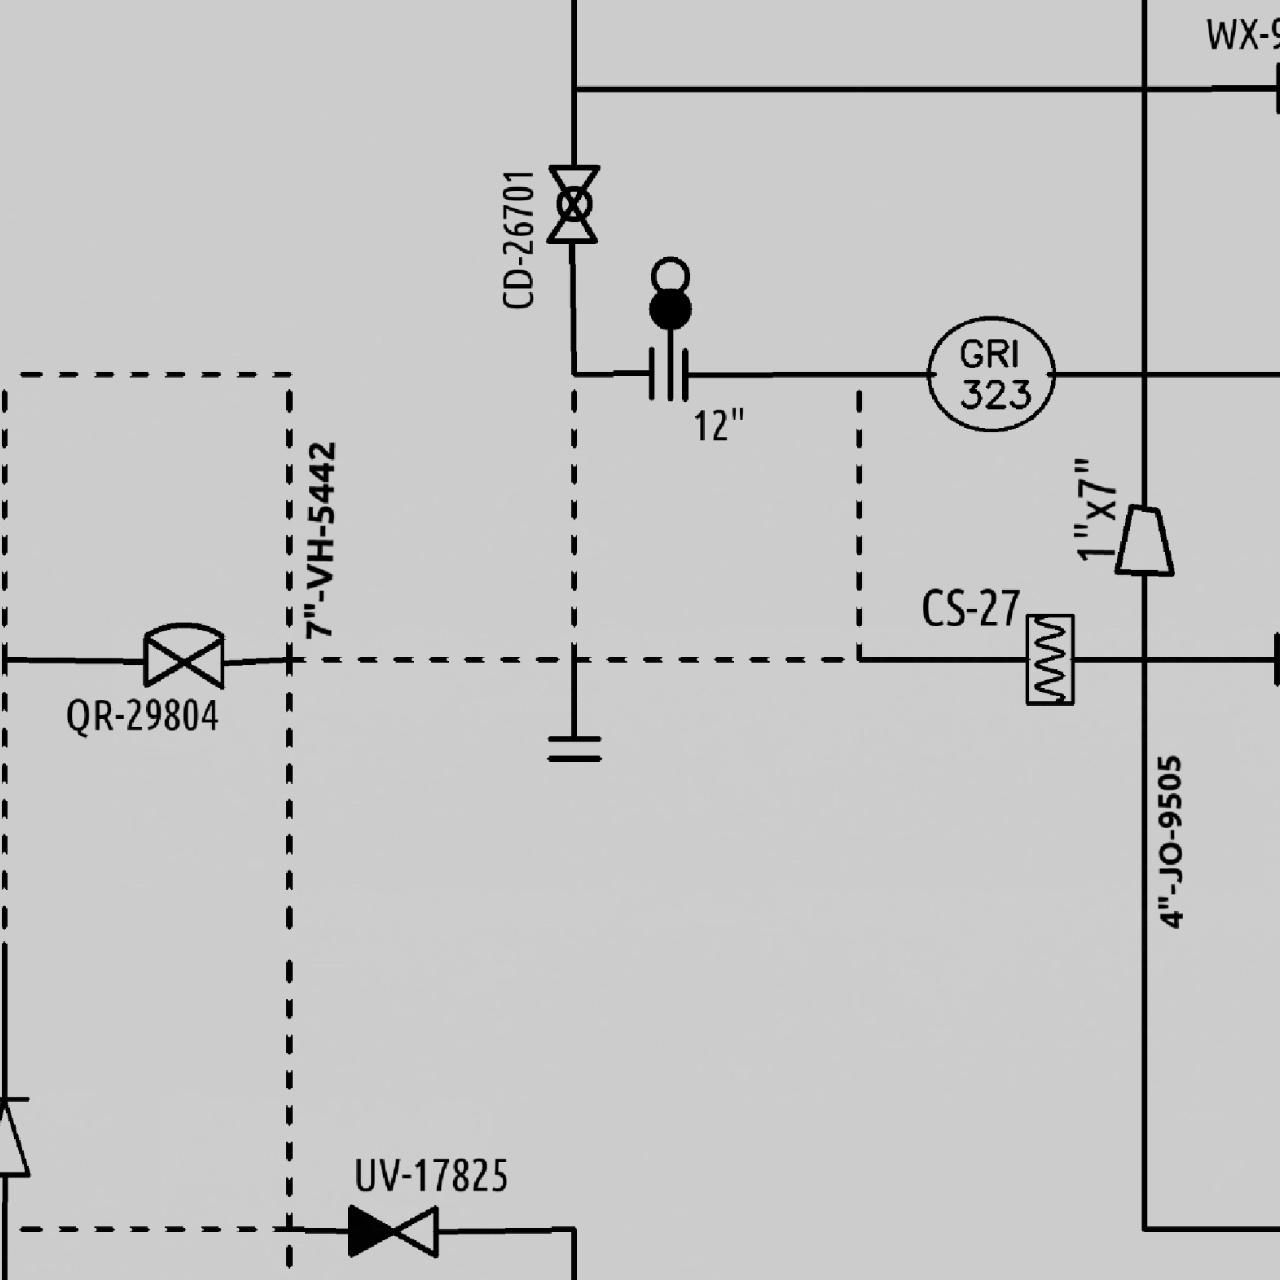Half closed valve: (343, 1200, 441, 1261)
